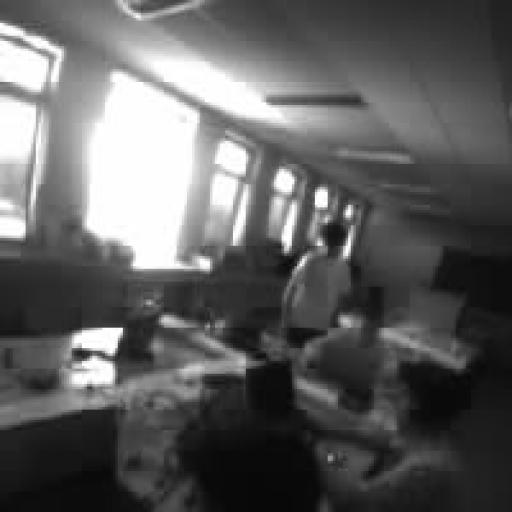human: (320, 364, 481, 511), (162, 392, 322, 511), (282, 221, 350, 348)
